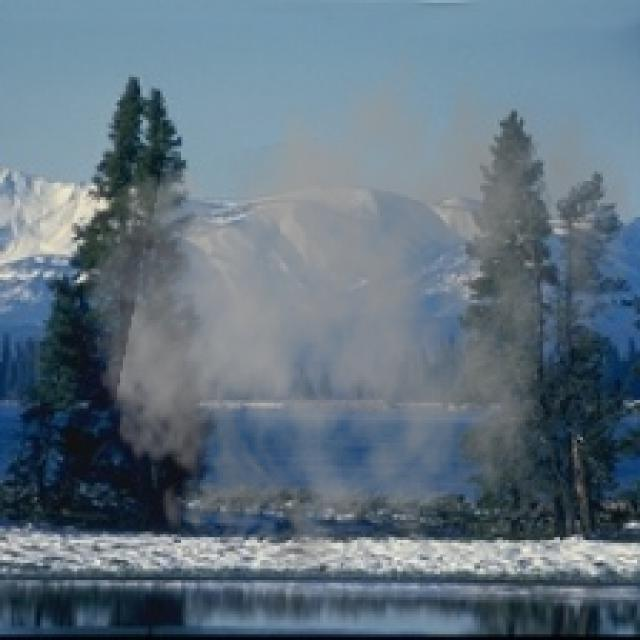Smoke: (74, 26, 637, 594)
